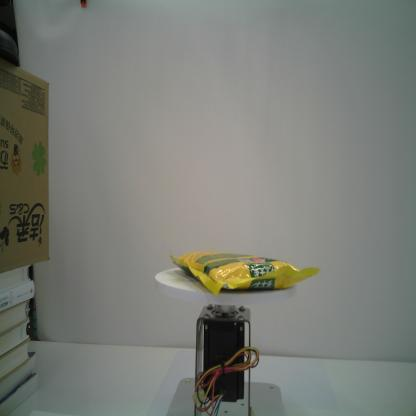Seasoner: (168, 249, 322, 298)
